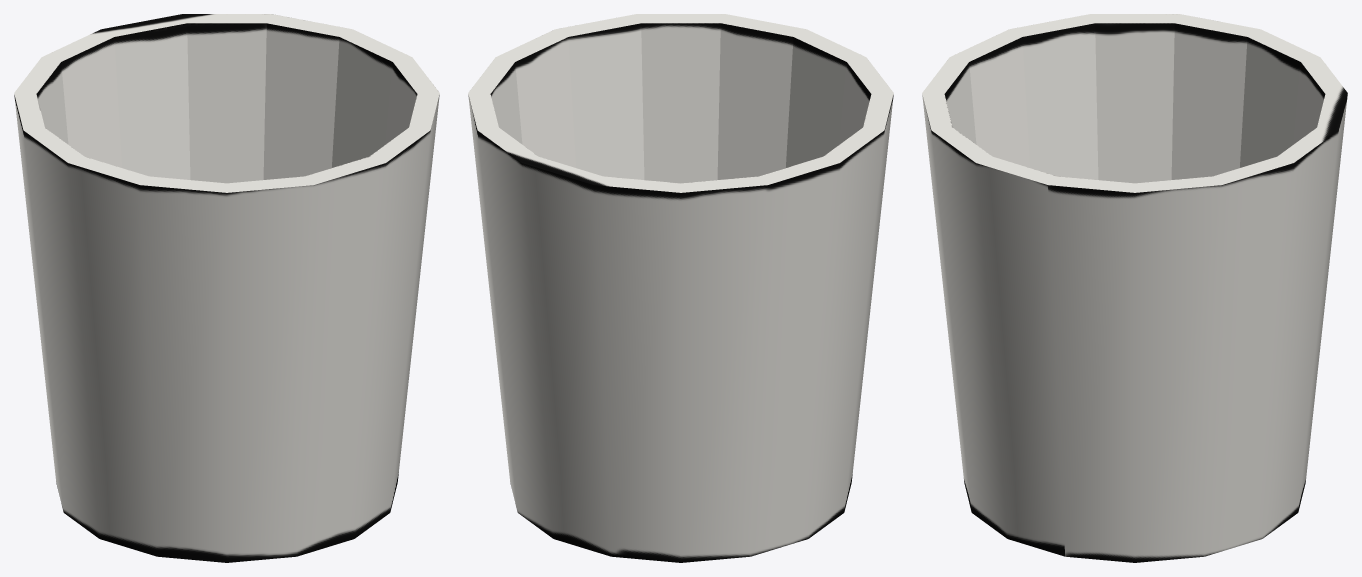
File: trashcan.FBX
The picture shows the model from 3 angles, left to right: view 1: azimuth 30°, elevation 25°; view 2: azimuth 150°, elevation 25°; view 3: azimuth 270°, elevation 25°; orthographic projection.
Parts seen in each view (by area): view 1: Cylinder001; view 2: Cylinder001; view 3: Cylinder001.
Boxes of the visible parts, x1,y1,x2,y2 form: Cylinder001: [14, 14, 439, 562]; Cylinder001: [468, 14, 893, 562]; Cylinder001: [922, 14, 1347, 562].
Bounding box in the file's own units: 10.9 × 11.02 × 10.96.
